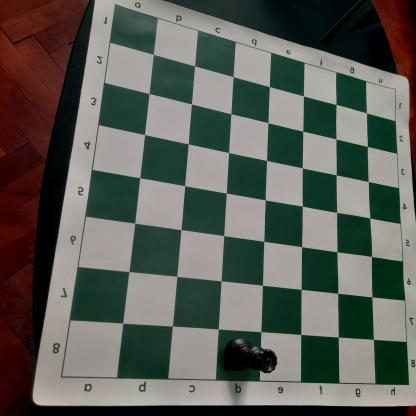black-queen: (223, 335, 279, 374)
